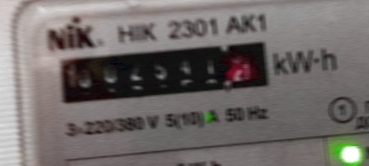0: (73, 61, 92, 88), (100, 56, 116, 84)
1: (200, 47, 215, 75)
2: (124, 54, 142, 81)
4: (176, 50, 191, 74)
5: (149, 51, 169, 81)
6: (228, 62, 244, 81)
screen: (45, 25, 283, 113)
